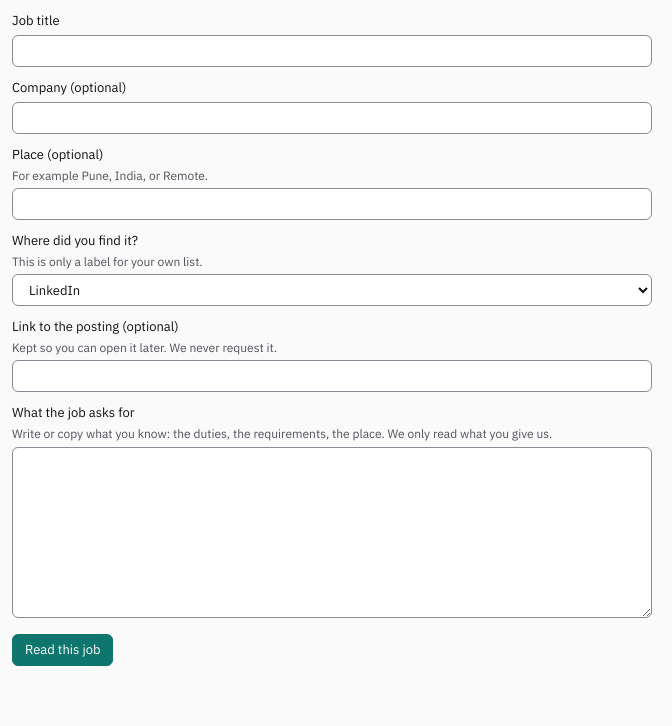
Test: ManualJobForm › asks for a title and enough description before sending
Click the button "Read this job".
click(63, 650)  # box 12,634 -> 114,666
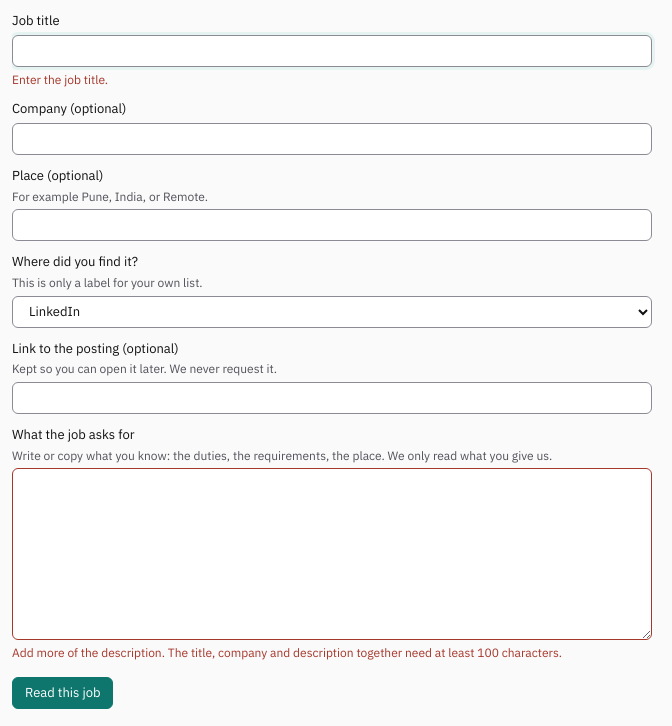
Result: the text "Enter the job title." is shown at 12,72 -> 108,87
Result: the text "Add more of the description" is shown at 12,645 -> 562,660
